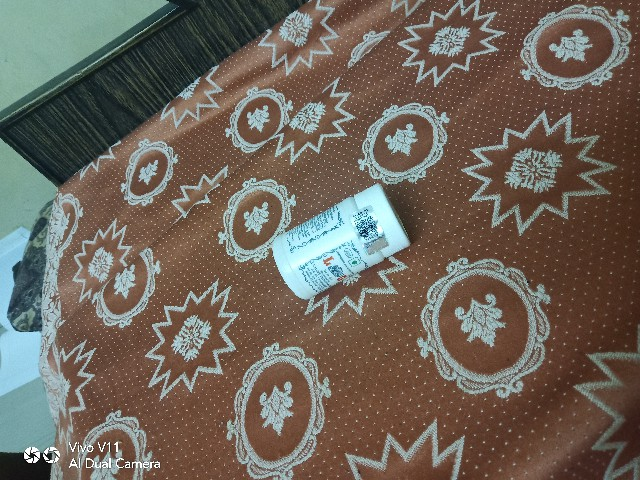lgasafoetidapowder small: (252, 175, 423, 313)
